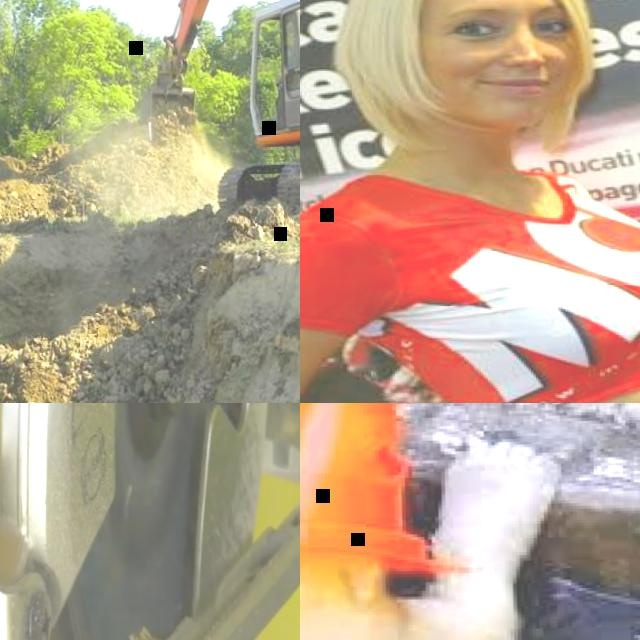NO-Mask: (407, 36, 568, 125)
NO-Safety Vest: (300, 158, 640, 403)
Person: (300, 0, 640, 403), (266, 41, 300, 130)
Safety Cone: (300, 403, 470, 580)
machinery: (137, 0, 300, 225)
